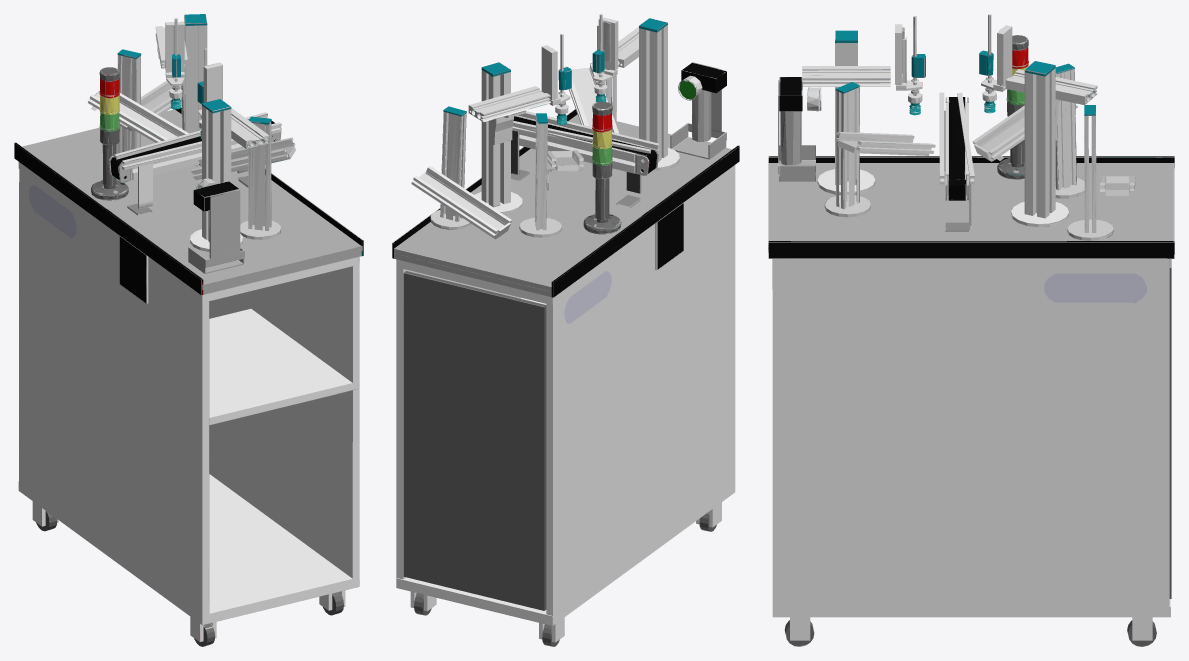
Rendered from mps_ring_wt.dae.
The picture shows the model from 3 angles, left to right: view 1: azimuth 30°, elevation 25°; view 2: azimuth 150°, elevation 25°; view 3: azimuth 270°, elevation 25°; orthographic projection. The views are drawn at different scales.
Parts seen in each view (by area): view 1: ShapeIndexedFaceSet_066; view 2: ShapeIndexedFaceSet_066; view 3: ShapeIndexedFaceSet_066.
Boxes of the visible parts, left/top/right/bottom form: ShapeIndexedFaceSet_066: left=14, top=14, right=363, bottom=646; ShapeIndexedFaceSet_066: left=392, top=14, right=739, bottom=646; ShapeIndexedFaceSet_066: left=768, top=14, right=1174, bottom=646.
Size of the model in its own units: 0.353 by 0.7002 by 1.13.
1 material, 1 textured.
